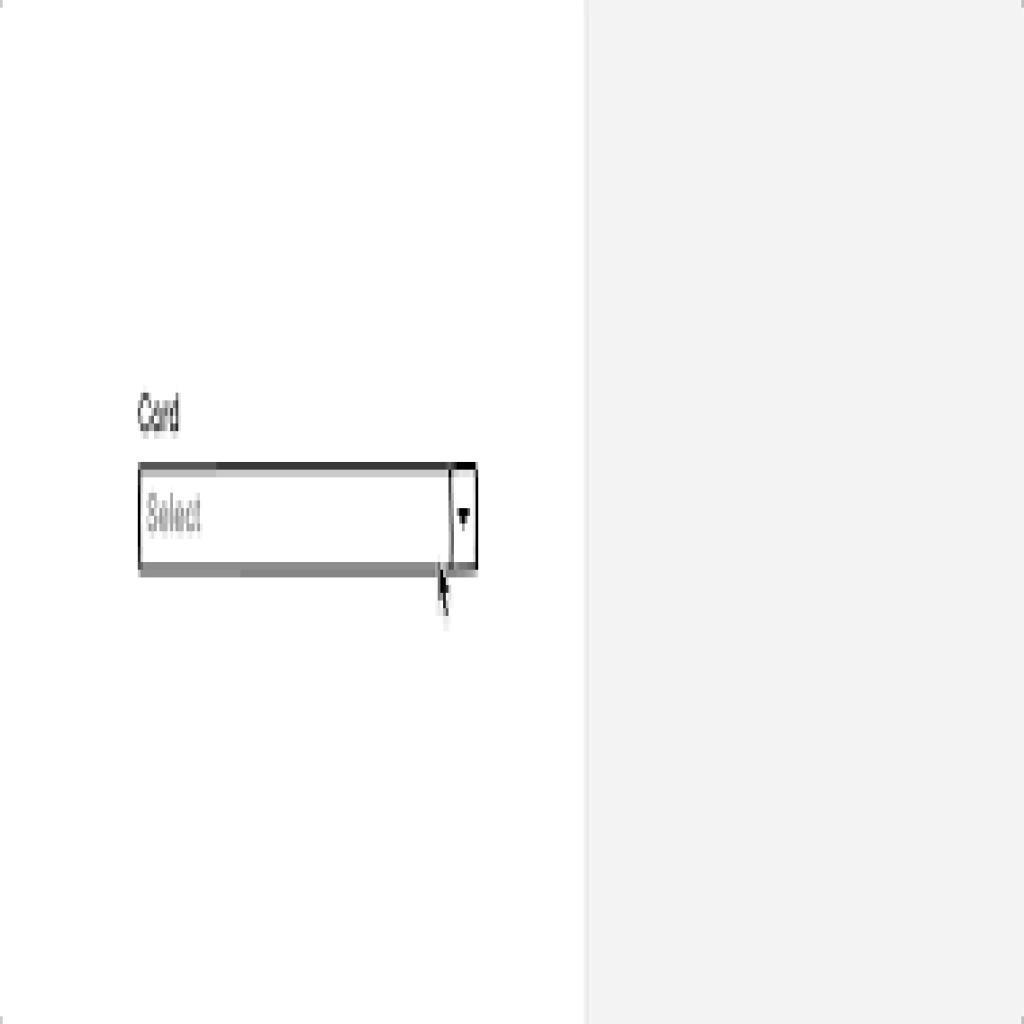dropdown: (138, 462, 482, 571)
